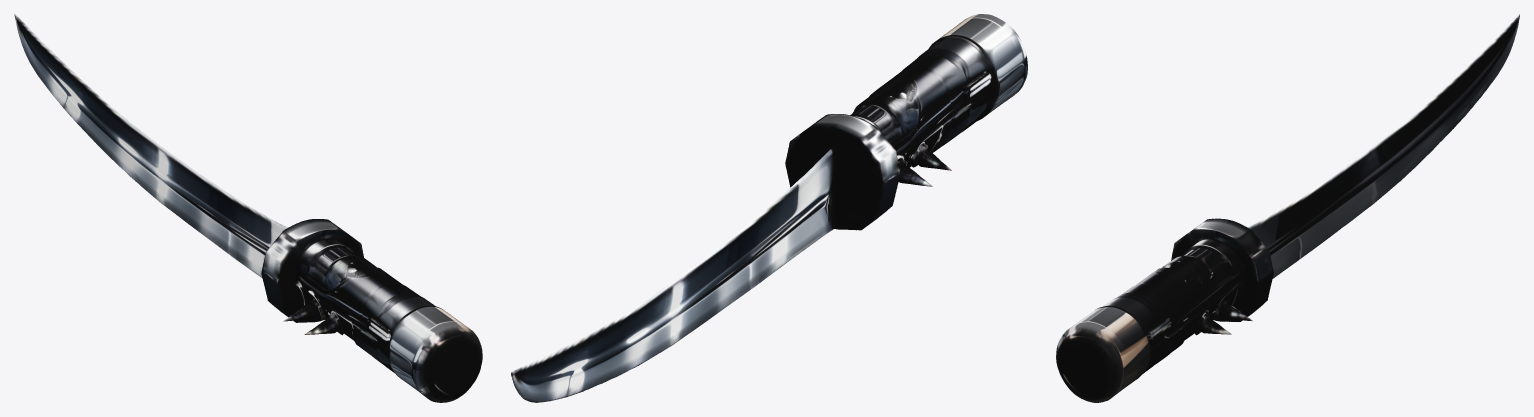
The model's file is e2b4c756_base_basic_shaded.glb.
3 views of the same model, side by side, from view 1: azimuth 30°, elevation 25°; view 2: azimuth 150°, elevation 25°; view 3: azimuth 330°, elevation 25° (orthographic). The views are drawn at different scales.
Parts seen in each view (by area): view 1: model; view 2: model; view 3: model.
Boxes of the visible parts, x1,y1,x2,y2 form: model: [14, 14, 482, 402]; model: [511, 14, 1027, 402]; model: [1056, 14, 1519, 402].
Size of the model in its own units: 0.2526 by 0.1955 by 1.72.
Materials: 1 (1 with a texture image).
